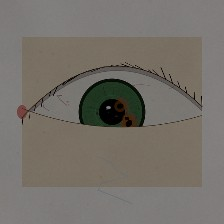foreign_body_visible: (110, 108, 148, 139)
